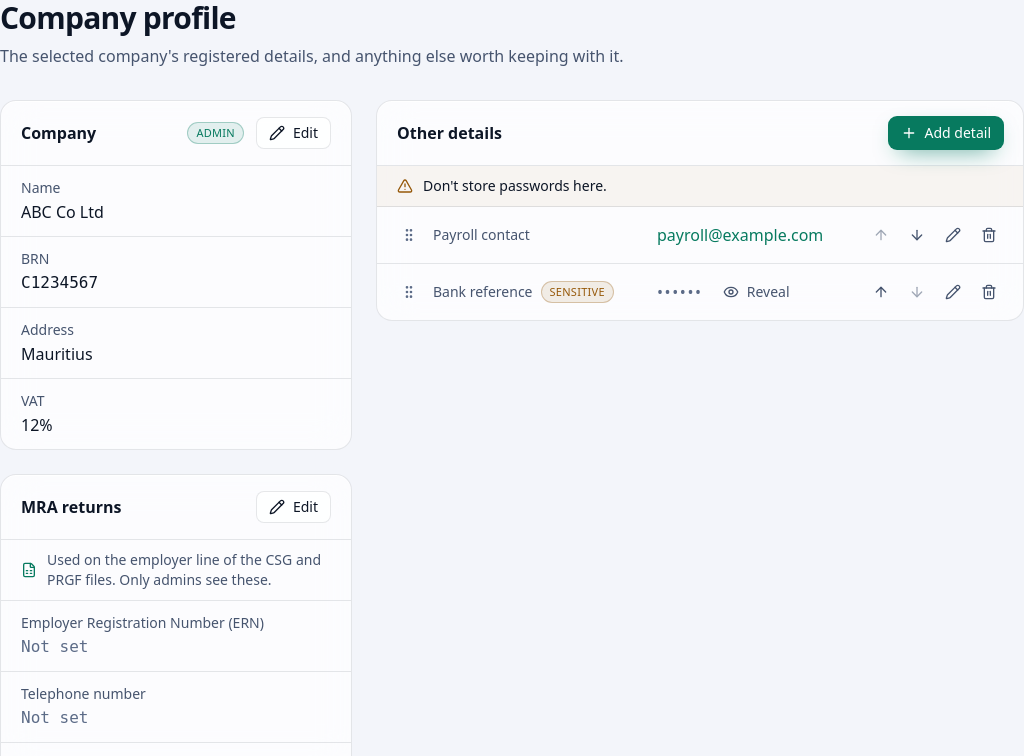
Scenario: sensitive details › need the password before they are revealed
Check: the text "Bank reference" is shown, box [433,282,532,302]
Click the button with aria-label "Reveal Bank reference": (756, 292) [711,276,802,308]
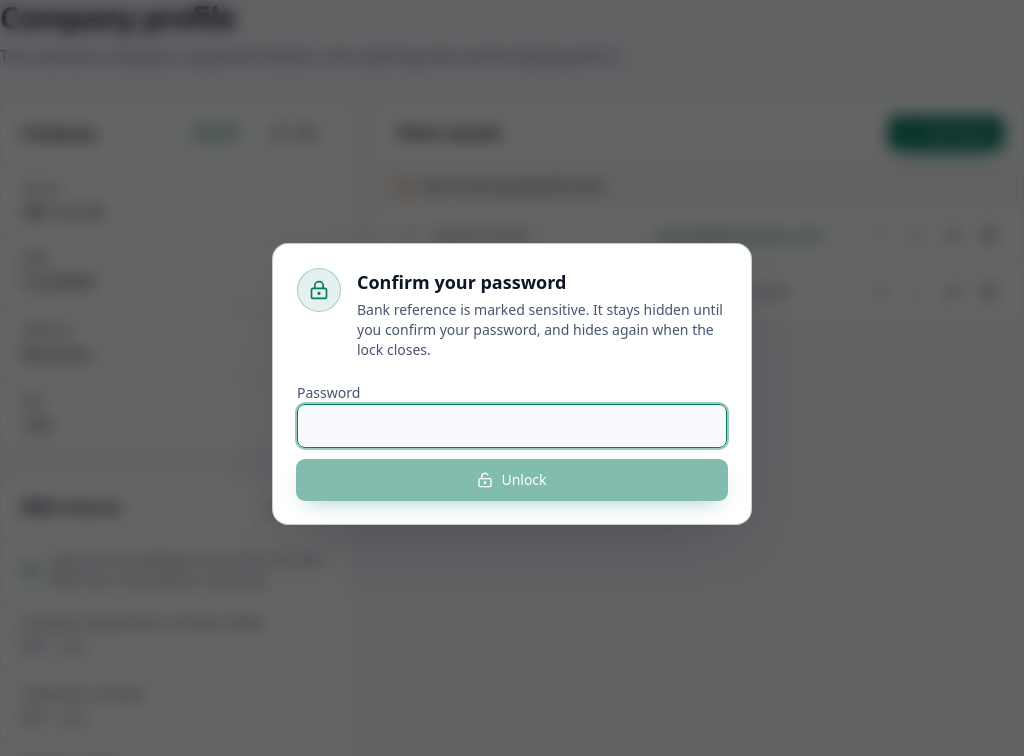
Check: the text "FAKE-IBAN-0000-0000" is not shown
Check: the heading "Confirm your password" is shown, box [357,270,566,294]
In the password field labelled "Password": (512, 426) [297,404,727,448], type "pw"
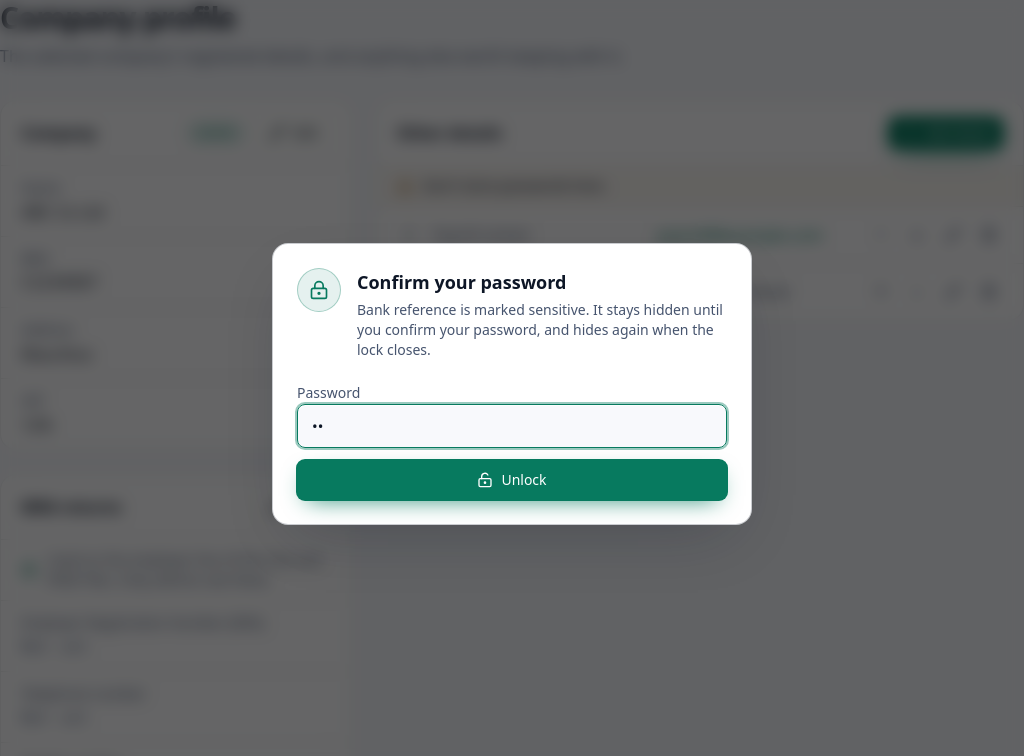
Submit the form labelled "Password", box [297,380,727,500]
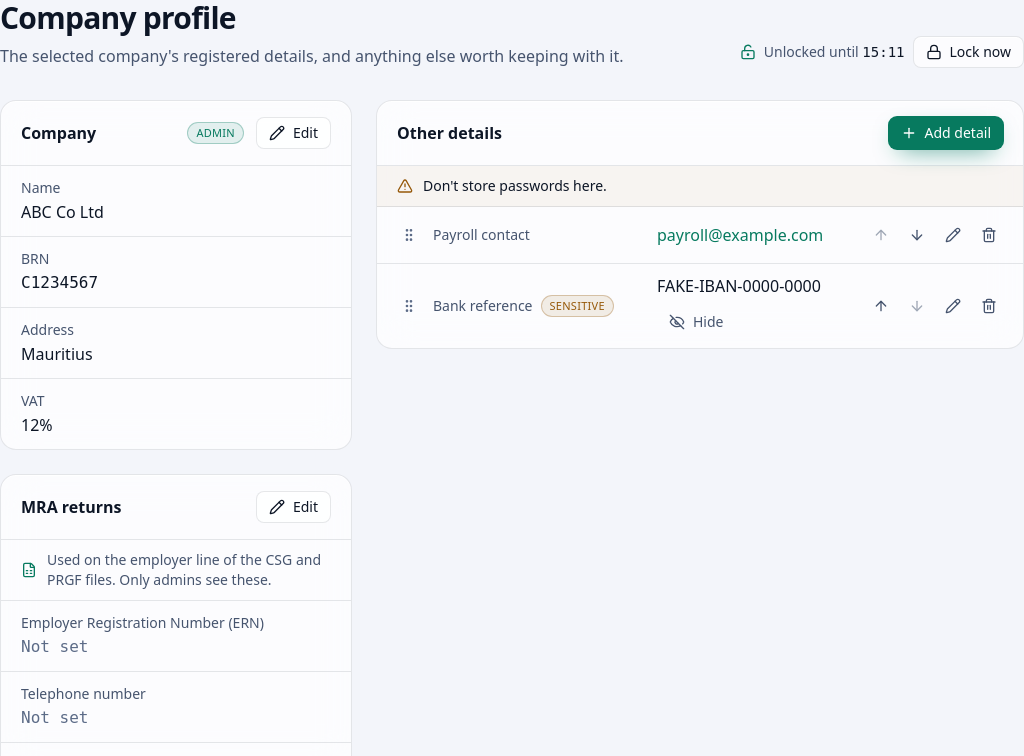
Check: the text "FAKE-IBAN-0000-0000" is shown, box [657,274,821,298]
Check: the dialog is gone
